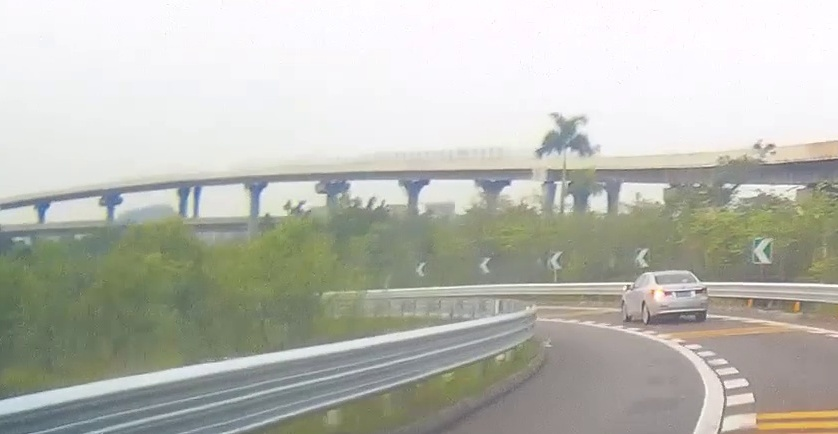L_light: (651, 290, 673, 298)
R_light: (696, 287, 707, 295)
T_light: (670, 274, 679, 276)
day-left: (647, 270, 708, 324)
